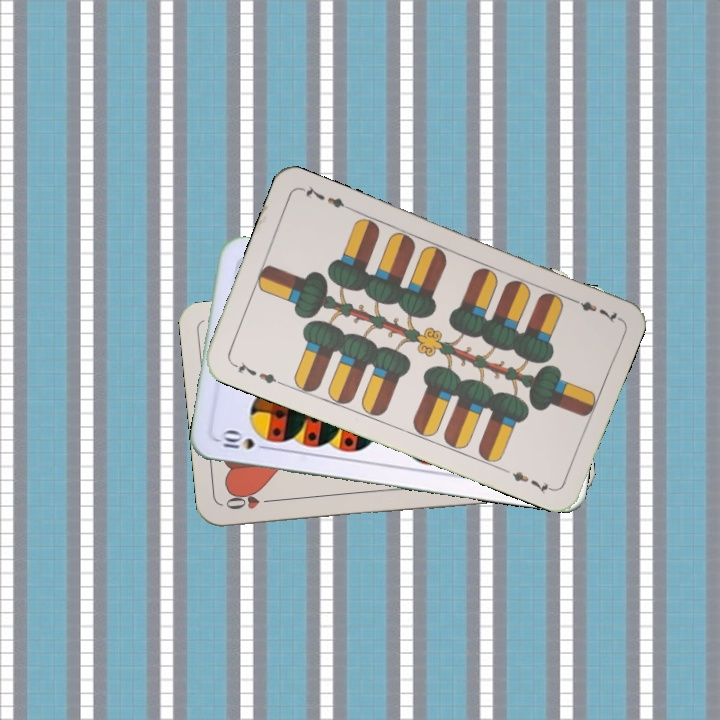E7: (565, 293, 621, 326), (228, 358, 284, 388)
HO: (221, 490, 280, 512)
S10: (218, 428, 273, 453)
